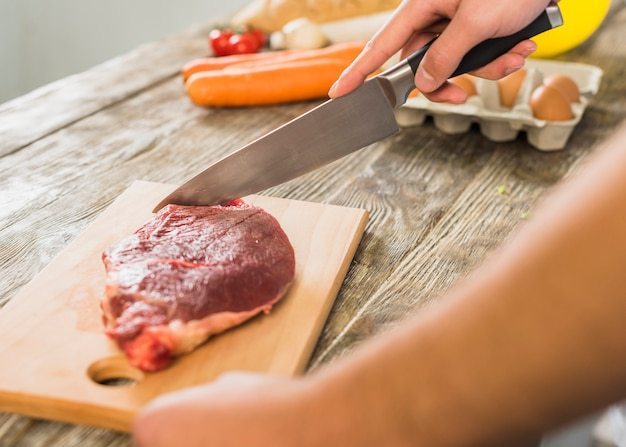knife: (153, 75, 401, 213)
